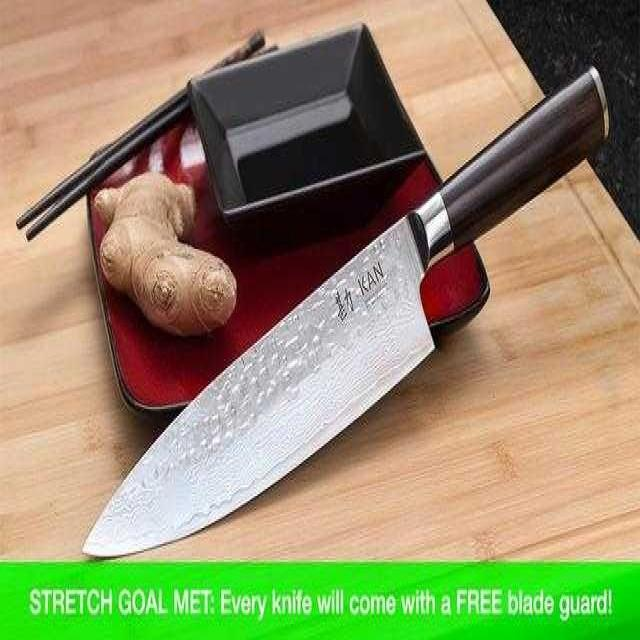knife: (70, 58, 640, 582)
